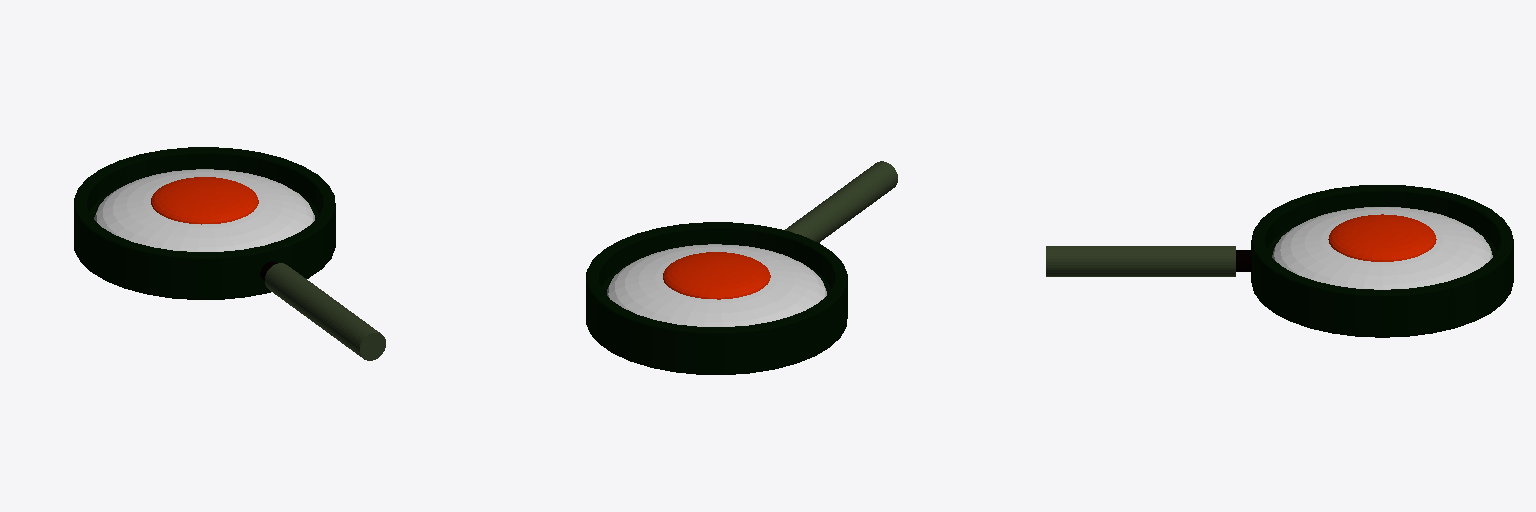
3 views of the same model, side by side, from view 1: azimuth 30°, elevation 25°; view 2: azimuth 150°, elevation 25°; view 3: azimuth 270°, elevation 25° (orthographic).
Visible parts, largest first — view 1: 円柱, 球, 円柱.001, 球.001; view 2: 円柱, 球, 球.001, 円柱.001; view 3: 円柱, 球, 円柱.001, 球.001.
Part boxes in pixels (x1,y1,x2,y2): 円柱: (74, 147, 335, 299); 球: (94, 169, 314, 251); 円柱.001: (265, 263, 385, 360); 球.001: (151, 177, 258, 224); 円柱: (586, 222, 847, 374); 球: (607, 244, 826, 326); 球.001: (663, 252, 770, 299); 円柱.001: (785, 161, 897, 242); 円柱: (1251, 185, 1513, 337); 球: (1272, 207, 1492, 289); 円柱.001: (1046, 246, 1235, 276); 球.001: (1328, 214, 1436, 261).
Bounding box in the file's own units: 20 × 4.54 × 35.61.